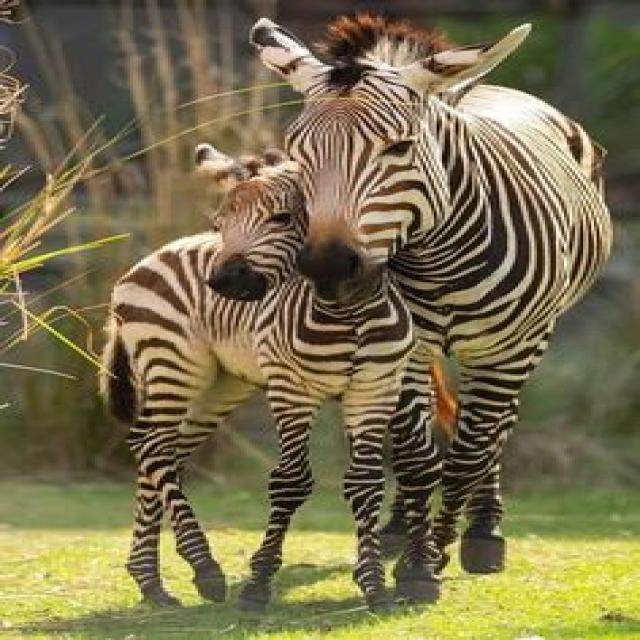Herbivorous: (249, 13, 613, 577), (100, 172, 415, 616)
